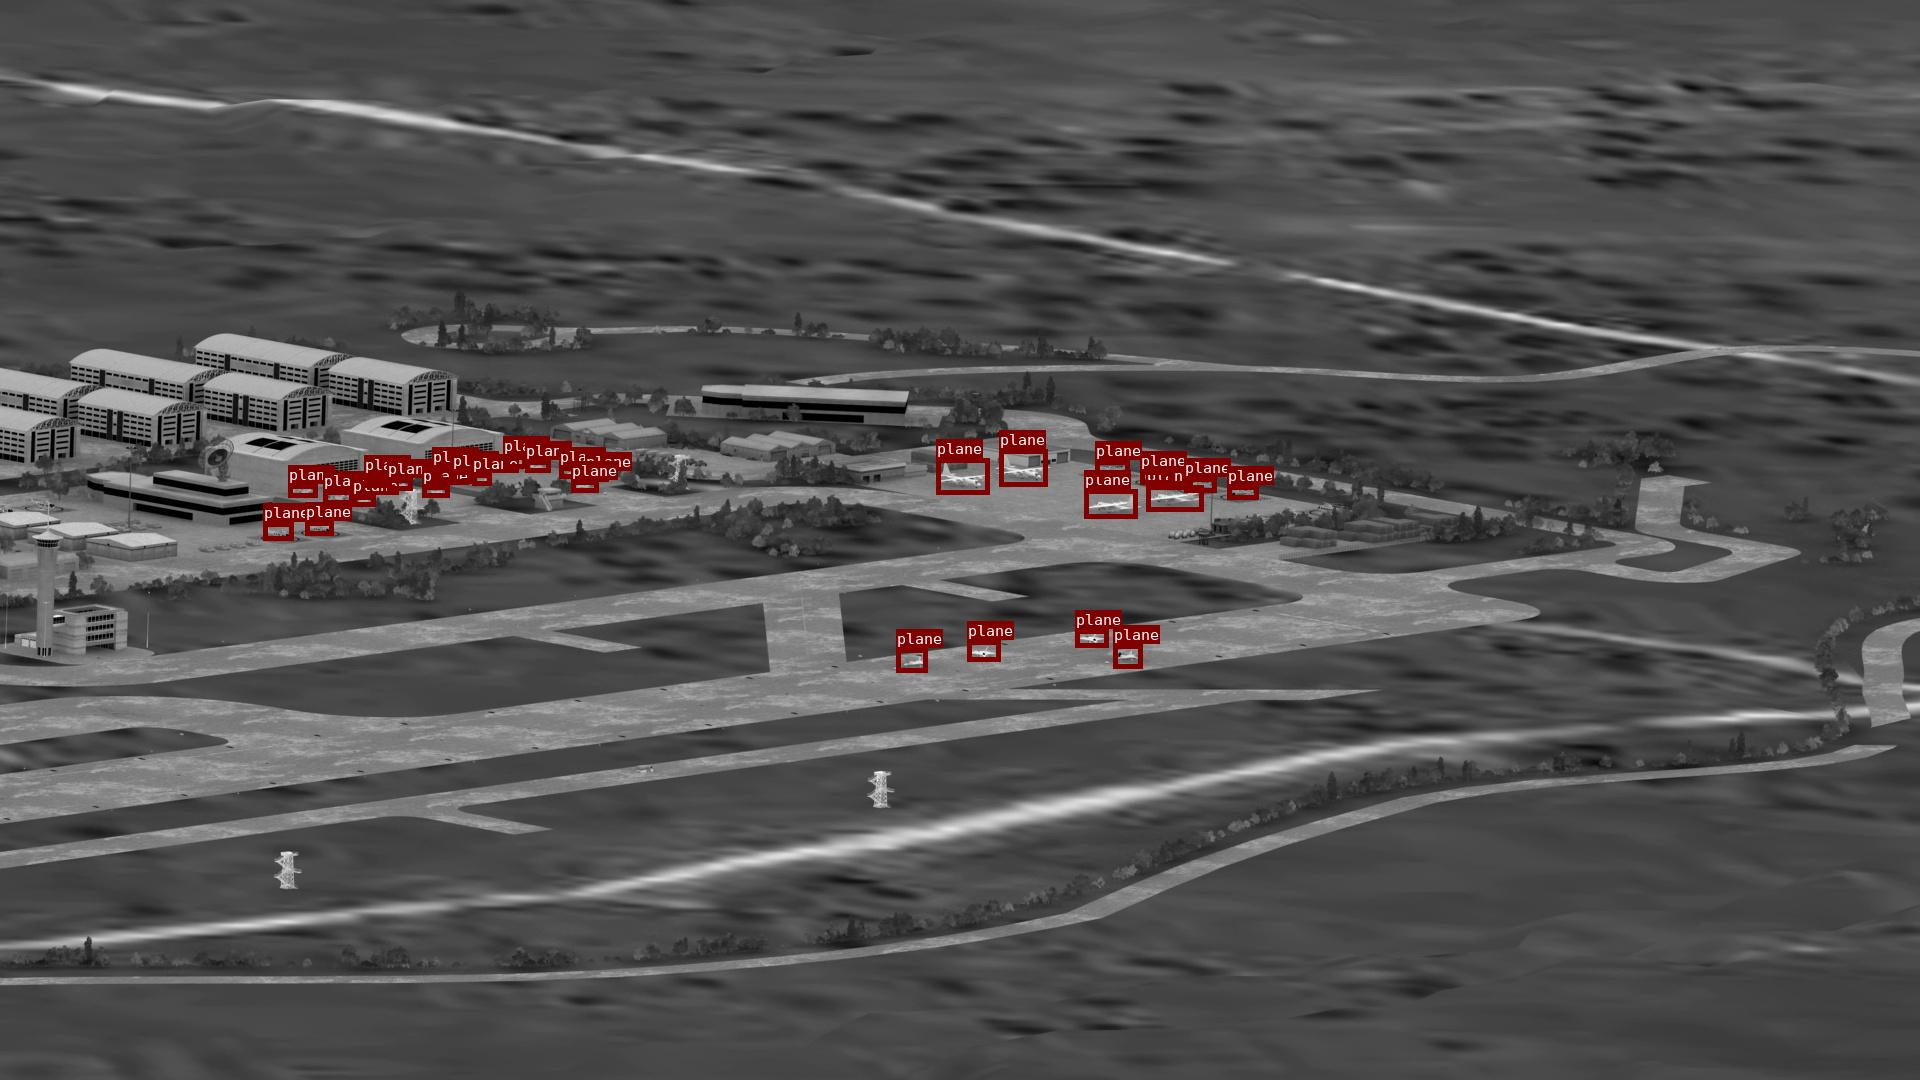plane: (936, 458, 989, 495), (1000, 448, 1047, 487), (1084, 489, 1137, 518), (1146, 485, 1203, 512), (895, 647, 927, 673), (1113, 644, 1142, 669), (967, 640, 1000, 661), (1075, 629, 1108, 647), (262, 522, 293, 541), (1095, 460, 1129, 476), (1139, 469, 1172, 484), (1184, 477, 1216, 492), (305, 521, 334, 535), (1226, 485, 1258, 498), (323, 491, 353, 504), (287, 484, 316, 497), (433, 465, 454, 481), (386, 477, 411, 491), (364, 473, 388, 487), (422, 485, 448, 497), (502, 455, 526, 468), (571, 480, 597, 492), (525, 460, 550, 472), (559, 465, 584, 477), (352, 495, 375, 506), (452, 469, 472, 483), (585, 471, 608, 481), (472, 473, 491, 485)
